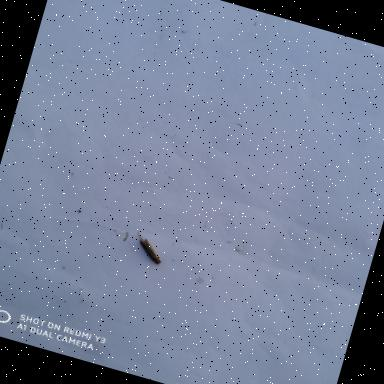pbw: (127, 228, 170, 270)
